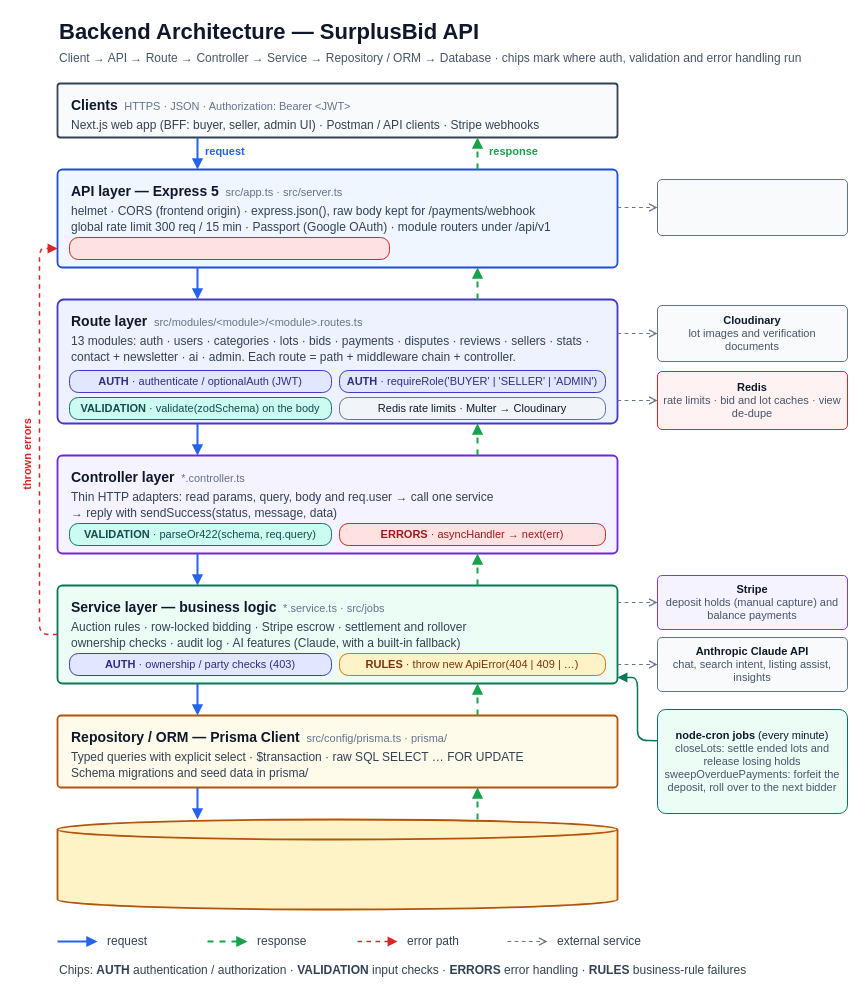
Image size: 865x998. Some labels were removed from this diagram. Here are the shapes that lost their labels. From the top down, the centre of each, then its label:
At point 752,207: "Google OAuth Passport strategy: sign-in and account creation".
At point 229,248: "ERRORS · errorHandler, mounted last → { success: false }".
At point 337,864: "PostgreSQL 12 tables · 9 enums · indexes · lot_current_price trigger".
